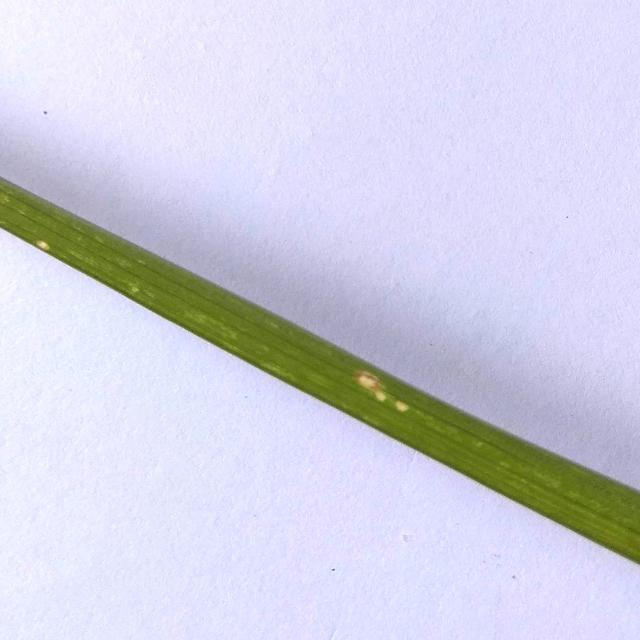Blast: (356, 370, 407, 410), (34, 239, 58, 250)
